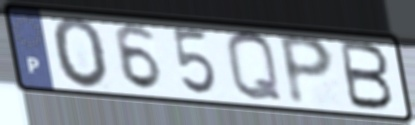5: (169, 25, 219, 97)
6: (113, 22, 166, 93)
B: (338, 38, 397, 113)
O: (50, 14, 112, 91)
P: (275, 30, 337, 109)
Q: (223, 28, 287, 105)
